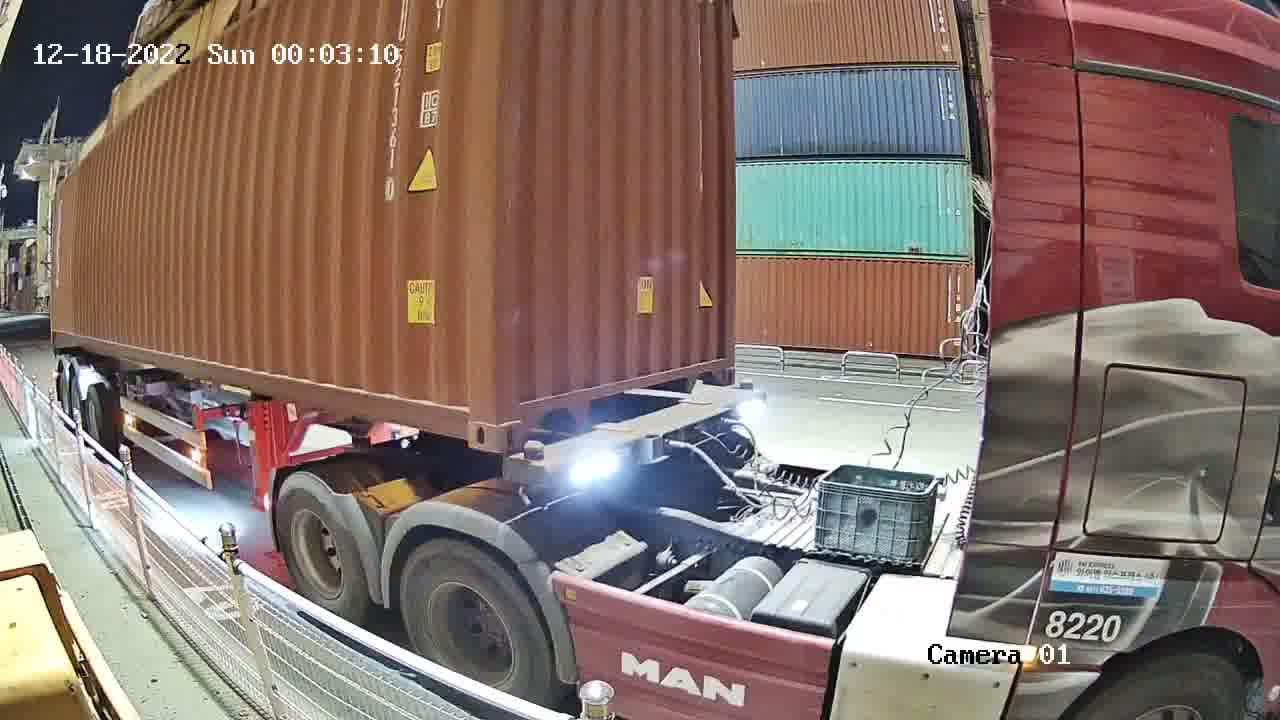Chassis: (506, 388, 766, 490)
Cone: (514, 439, 551, 494), (734, 377, 756, 396)
Hole_L: (498, 377, 548, 451)
Hole_R: (432, 365, 497, 453), (691, 333, 738, 390)
Tire: (401, 540, 547, 700), (275, 473, 366, 618)
